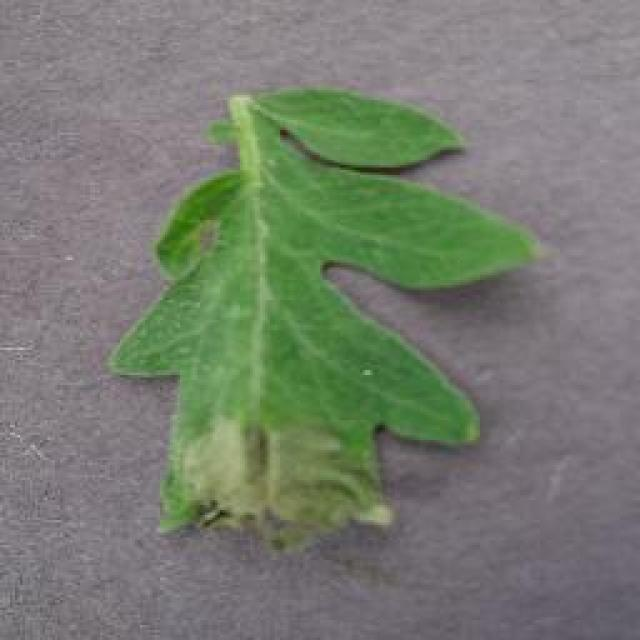Tomato late blight leaf: (107, 88, 550, 550)
